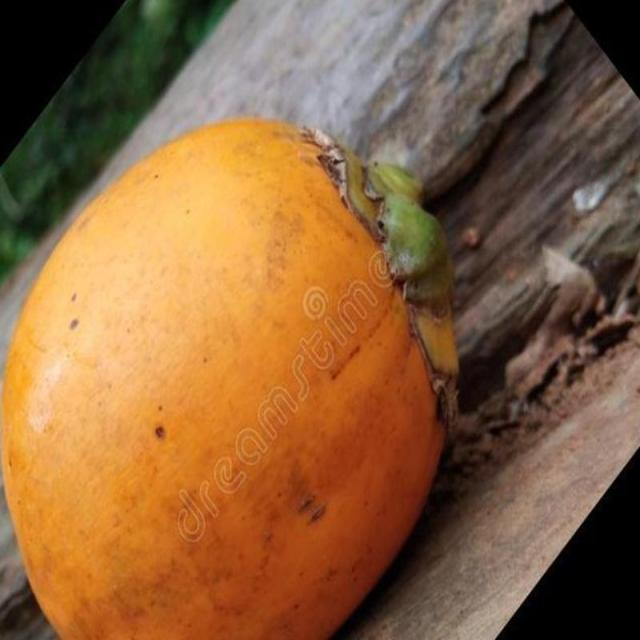good: (0, 117, 458, 639)
